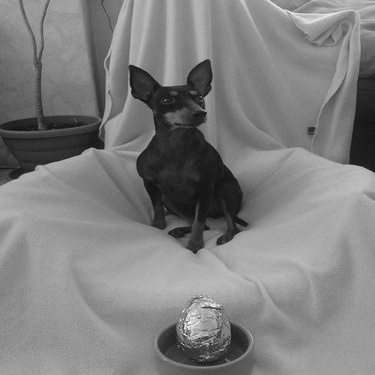dog: (99, 51, 257, 259)
